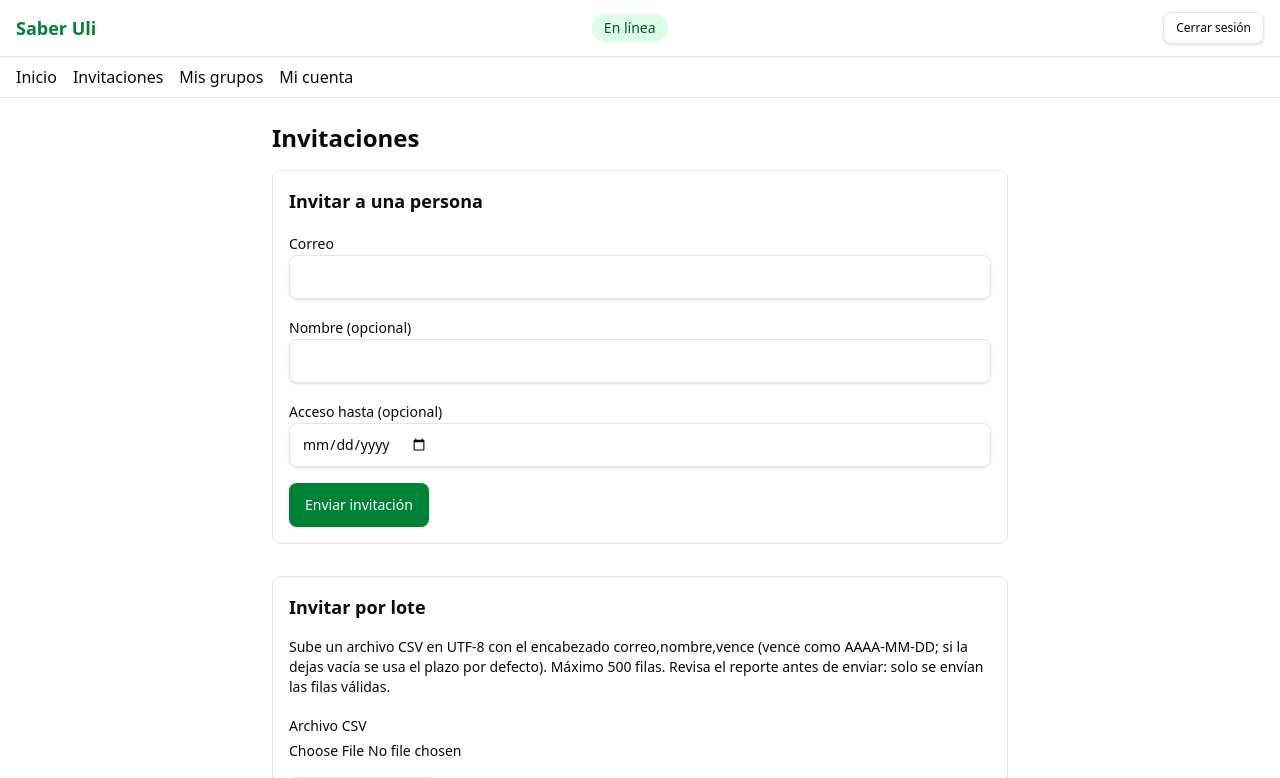
it: invitar a una persona › muestra el rechazo del servidor access-expiry-out-of-range
This screenshot has width=1280, height=778.
Type "laura@correo.co" into the field labelled "Correo" at [640, 277], box x1=289 y1=255 x2=991 y2=299
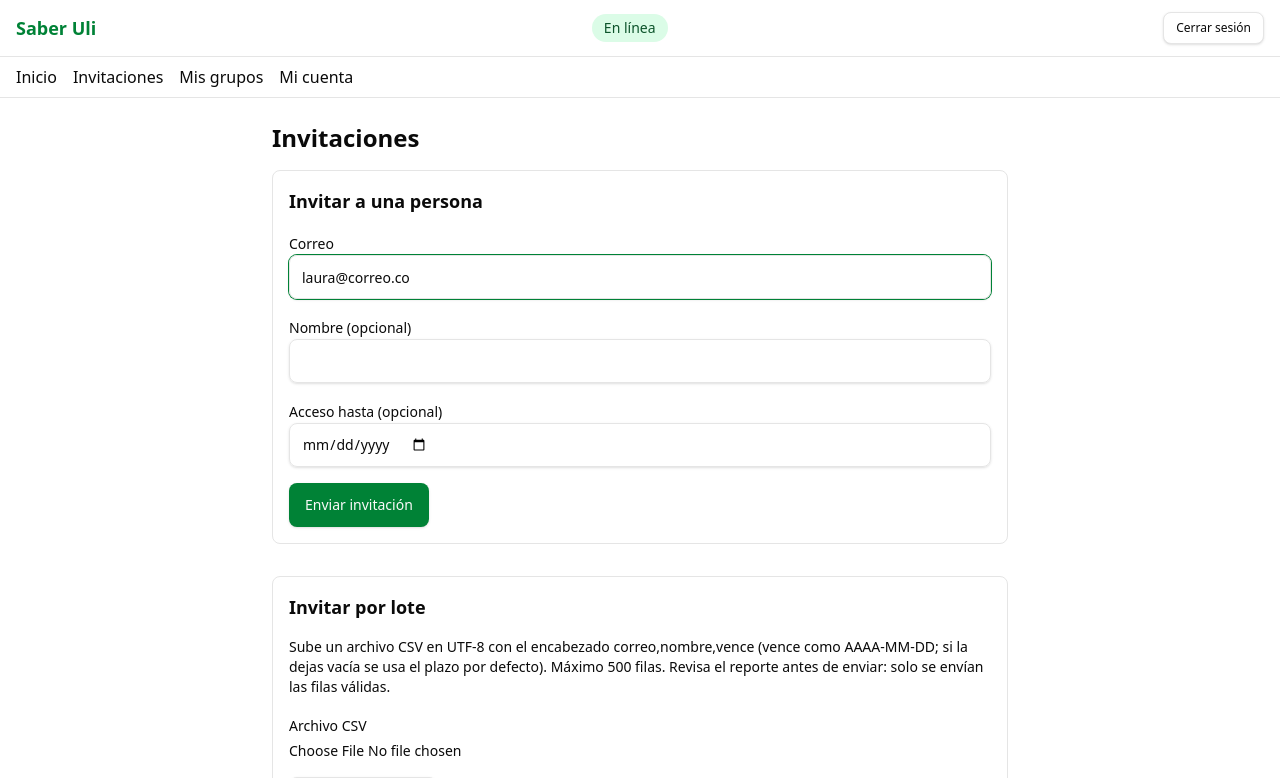
Click the button "Enviar invitación" at [359, 505], box x1=289 y1=483 x2=429 y2=527
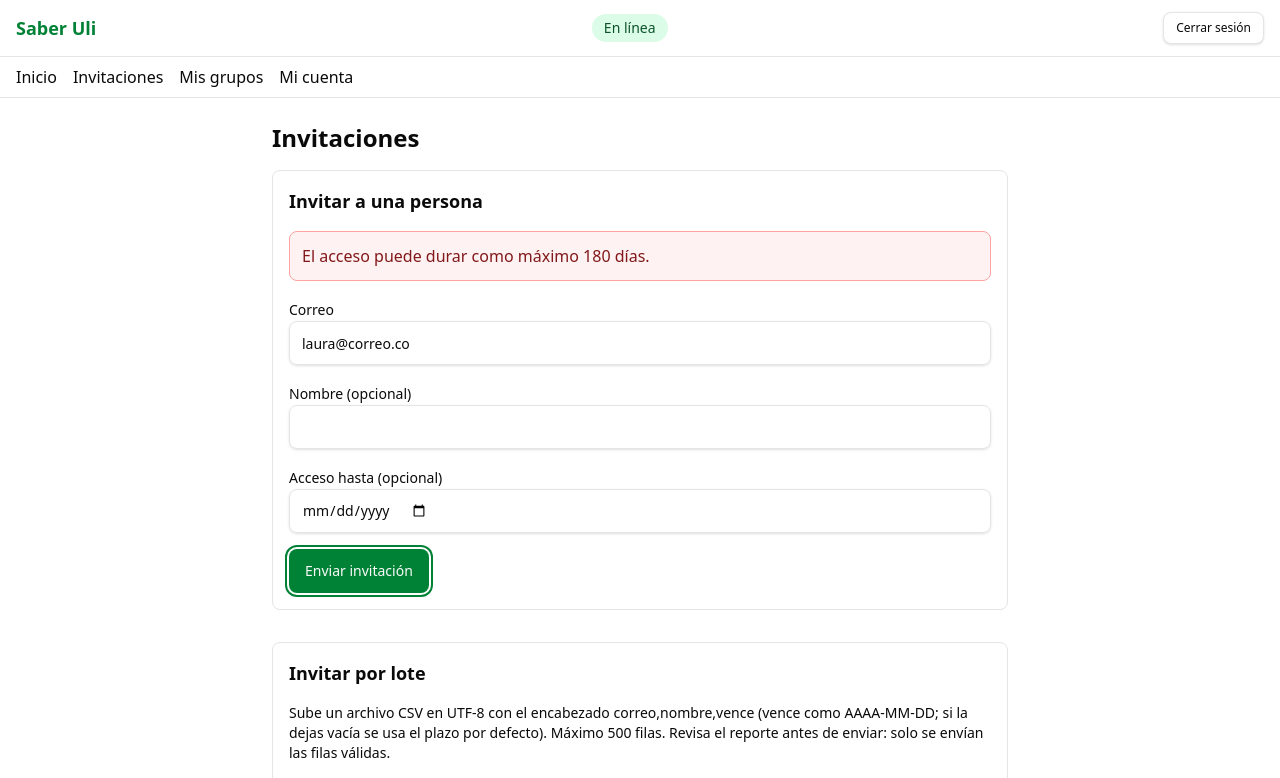
Now the message "El acceso puede durar como máximo 180 días." is shown, box x1=289 y1=231 x2=991 y2=281
